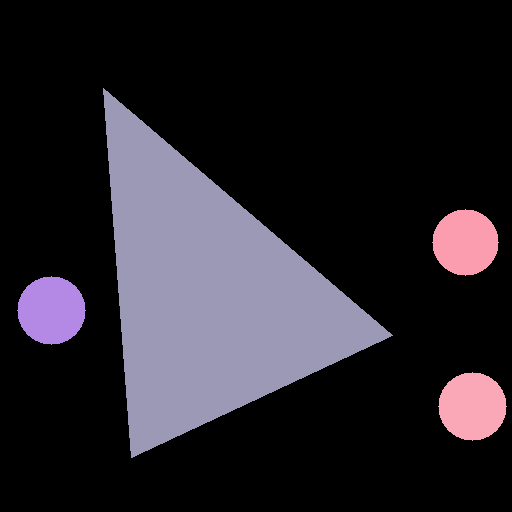circle: (438, 372, 506, 440), (17, 276, 85, 344), (432, 209, 498, 275)
triangle: (103, 88, 392, 457)
